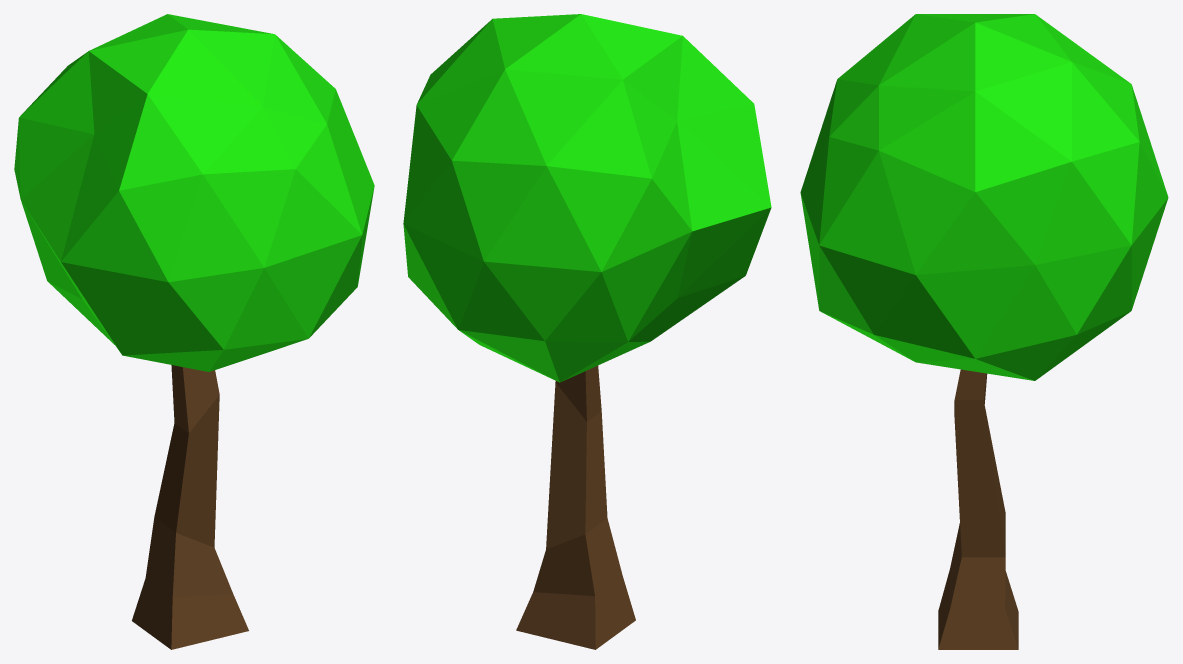
The model's file is LowPoly_Tree01.fbx.
3 renders of one model, left to right at view 1: azimuth 30°, elevation 25°; view 2: azimuth 150°, elevation 25°; view 3: azimuth 270°, elevation 25°, orthographic. The views are drawn at different scales.
Visible parts, largest first — view 1: Foglie, Tronco; view 2: Foglie, Tronco; view 3: Foglie, Tronco.
Part boxes in pixels (<box>): Foglie: <box>14,14,374,371</box>; Tronco: <box>132,365,248,649</box>; Foglie: <box>403,14,771,382</box>; Tronco: <box>516,365,635,649</box>; Foglie: <box>800,14,1168,380</box>; Tronco: <box>938,369,1018,649</box>.
Bounding box in the file's own units: 712 × 1297 × 713.
